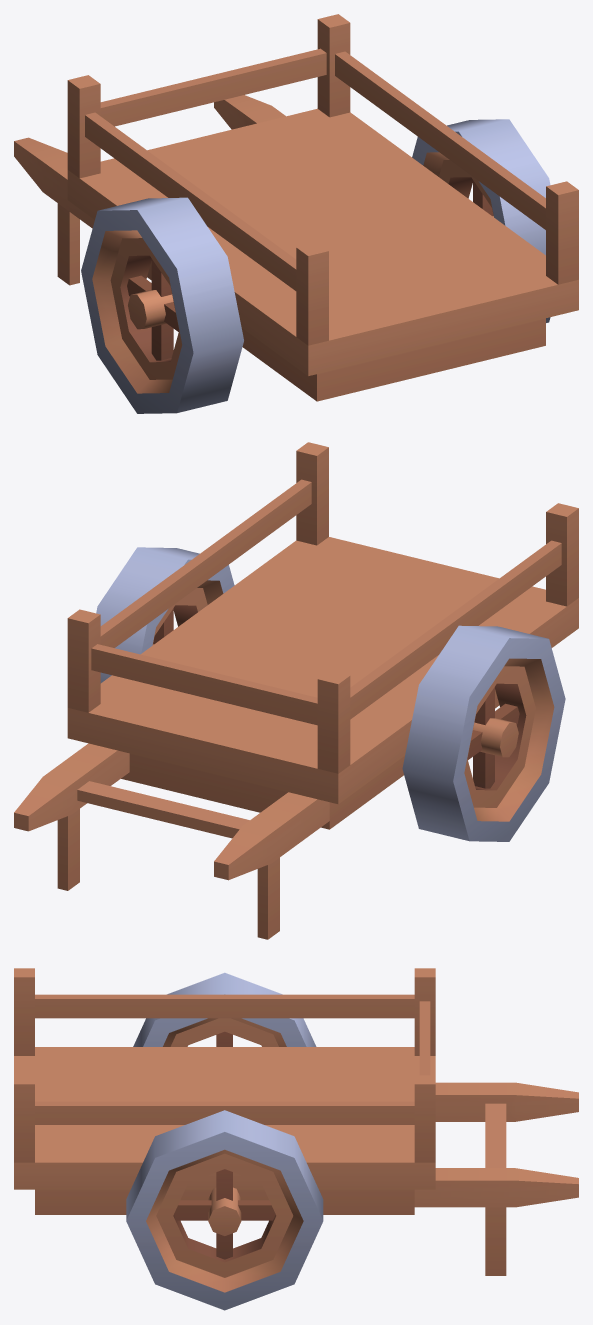
File: charrette.glb
3 views of the same model, one above another, from view 1: azimuth 30°, elevation 25°; view 2: azimuth 150°, elevation 25°; view 3: azimuth 270°, elevation 25° (orthographic). The views are drawn at different scales.
Parts seen in each view (by area): view 1: cart; view 2: cart; view 3: cart.
Part boxes in pixels (bbox=[...]): cart: bbox=[14, 14, 578, 413]; cart: bbox=[14, 442, 578, 939]; cart: bbox=[14, 968, 578, 1310].
Size of the model in its own units: 2.33 by 1.4 by 3.5.
1 material, 1 textured.
